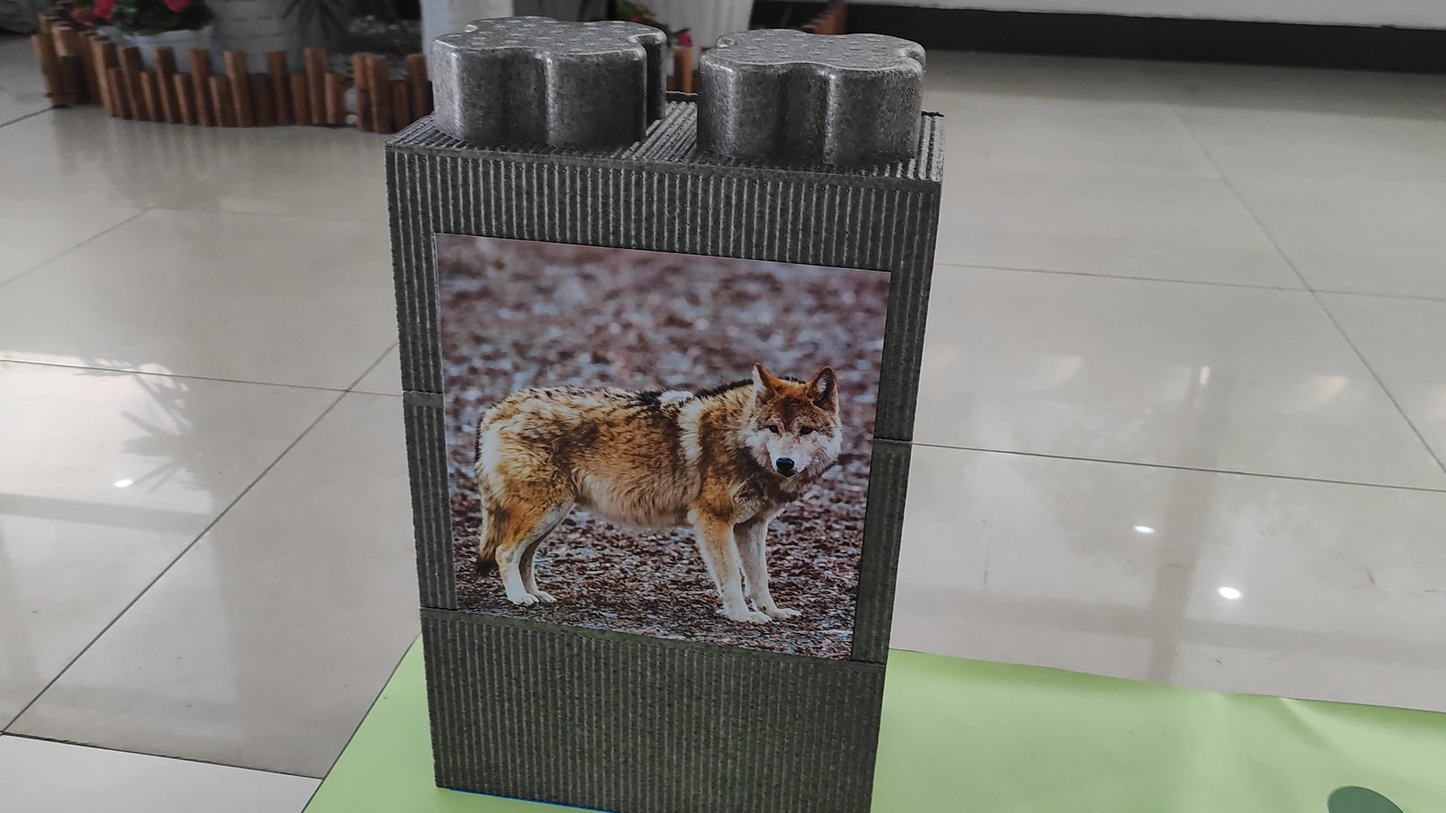wolf: (445, 296, 839, 626)
